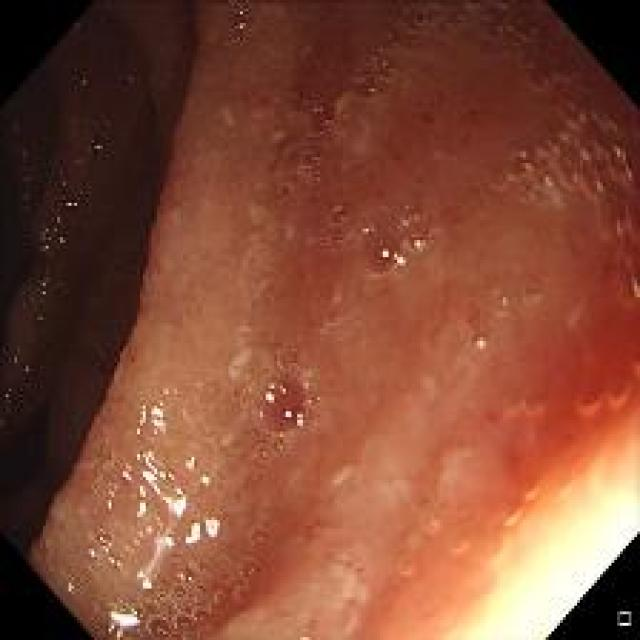blur: (448, 111, 629, 569)
bubbles: (286, 11, 444, 148), (486, 109, 635, 202), (142, 550, 270, 634), (238, 350, 330, 466), (334, 186, 432, 282), (396, 4, 571, 48), (490, 41, 598, 88), (574, 372, 635, 411), (222, 9, 259, 55), (325, 196, 350, 250), (518, 382, 551, 418), (299, 142, 324, 184), (240, 512, 268, 549), (446, 529, 475, 559), (468, 322, 494, 355), (95, 441, 115, 475), (491, 286, 515, 314), (419, 505, 442, 534), (521, 279, 541, 306), (398, 555, 418, 580), (35, 535, 49, 556)
color misalignment: (516, 114, 625, 195)
contrast: (2, 10, 155, 510)
saturation: (475, 496, 638, 635)
specularity: (89, 400, 218, 622), (10, 120, 36, 202), (4, 351, 30, 422), (35, 211, 51, 320), (66, 74, 86, 126), (378, 246, 408, 266), (54, 210, 68, 251), (89, 132, 108, 161), (59, 165, 71, 204), (284, 409, 305, 428), (264, 380, 276, 405), (411, 238, 424, 251), (474, 336, 485, 350)
